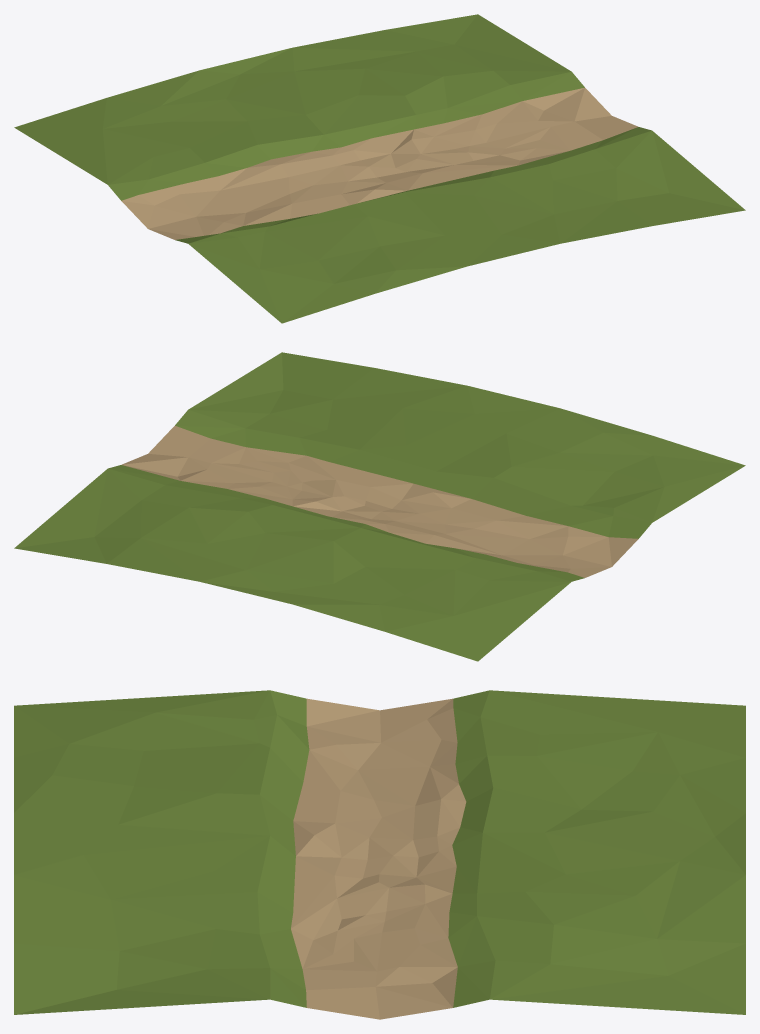
Rendered from rpgpp_ag_terrain_path_01_10x10m.002.fbx.
3 renders of one model, top to bottom at view 1: azimuth 30°, elevation 25°; view 2: azimuth 150°, elevation 25°; view 3: azimuth 270°, elevation 25°, orthographic. The views are drawn at different scales.
Parts seen in each view (by area): view 1: rpgpp_ag_terrain_path_01_10x10m.002; view 2: rpgpp_ag_terrain_path_01_10x10m.002; view 3: rpgpp_ag_terrain_path_01_10x10m.002.
Part boxes in pixels (<box>): rpgpp_ag_terrain_path_01_10x10m.002: <box>14,14,745,323</box>; rpgpp_ag_terrain_path_01_10x10m.002: <box>14,352,745,661</box>; rpgpp_ag_terrain_path_01_10x10m.002: <box>14,690,745,1019</box>.
Size of the model in its own units: 10 by 0.3863 by 10.
